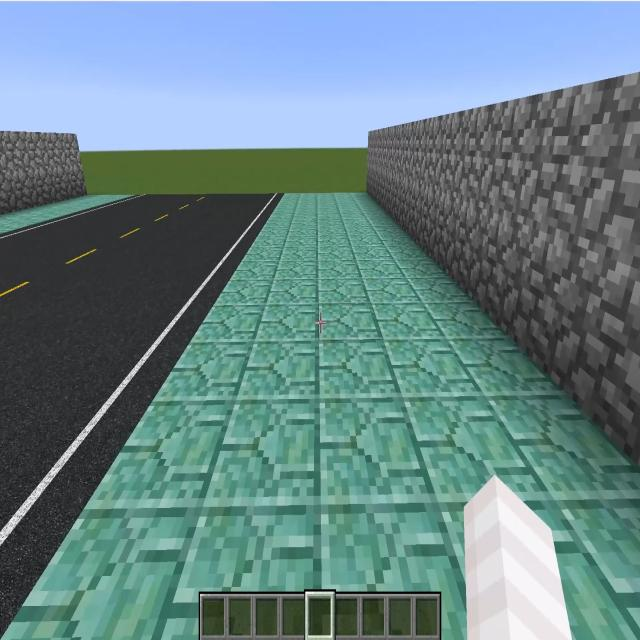road: (0, 194, 284, 632)
sidewalk: (5, 194, 640, 639), (0, 195, 128, 234)
